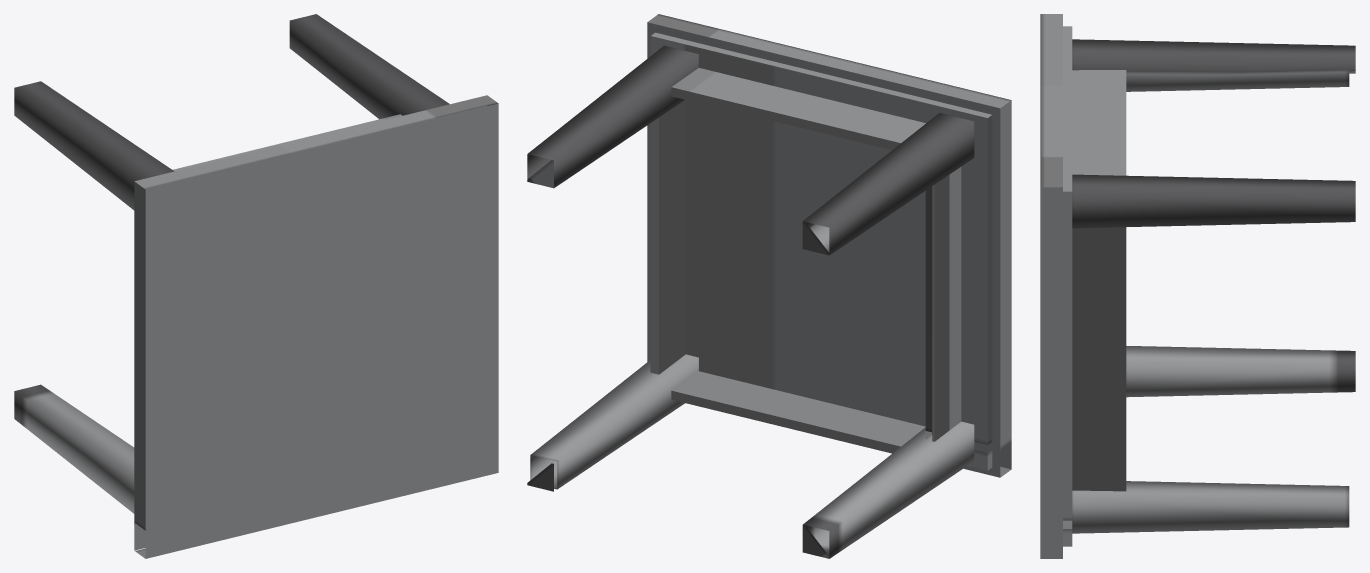
3 views of the same model, side by side, from view 1: azimuth 30°, elevation 25°; view 2: azimuth 150°, elevation 25°; view 3: azimuth 270°, elevation 25° (orthographic).
Size of the model in its own units: 0.974 by 0.974 by 0.749.
